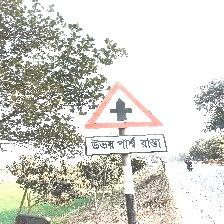Crossroad: (84, 82, 167, 156)
